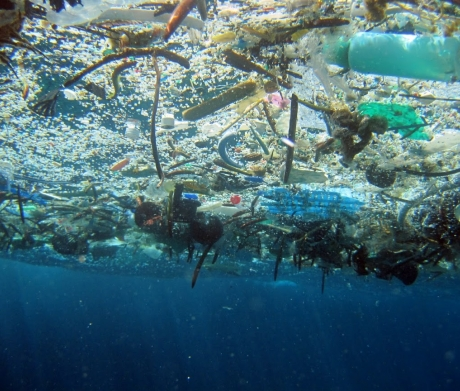litter: (1, 178, 459, 283), (55, 12, 201, 86), (355, 96, 460, 192), (313, 28, 460, 90), (144, 53, 176, 192), (104, 152, 135, 181)
